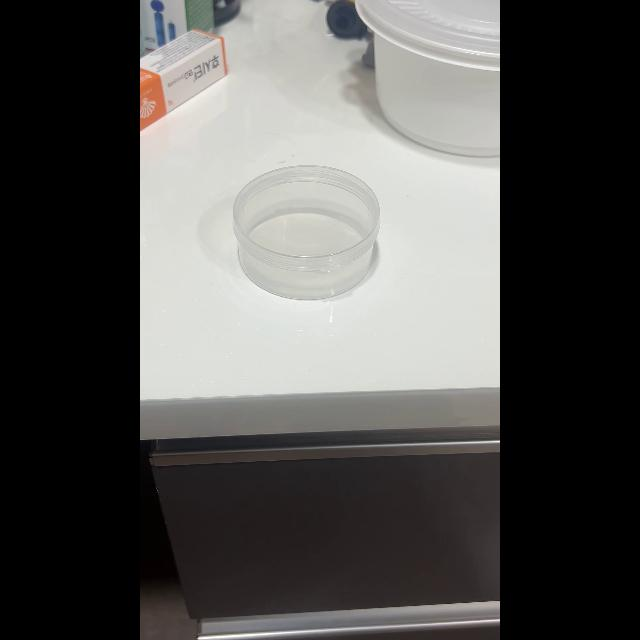clean: (232, 164, 382, 298)
